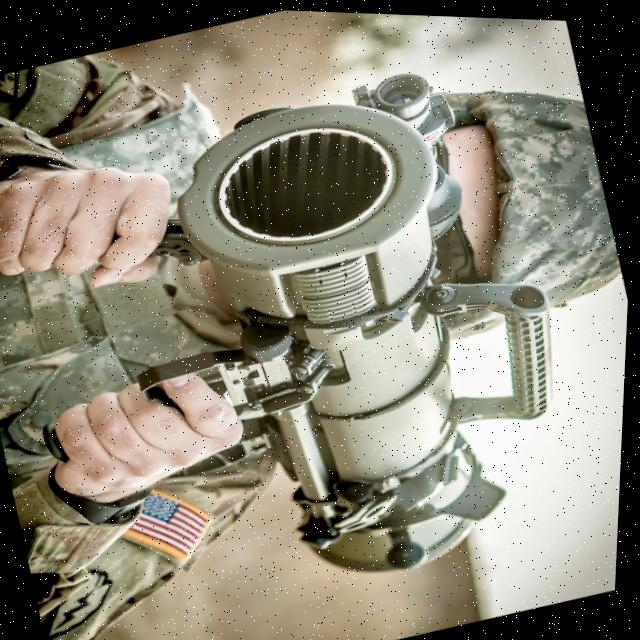rocket: (150, 44, 620, 607)
